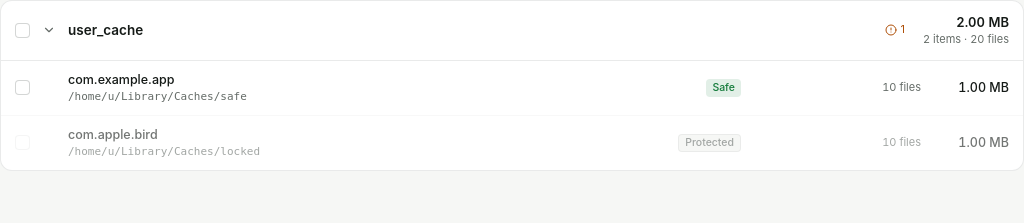
it: ProviderGroup › shows why a location was skipped instead of hiding it
Click the button titled "Some locations could not be read".
click(895, 30)  # box [878,20,911,40]
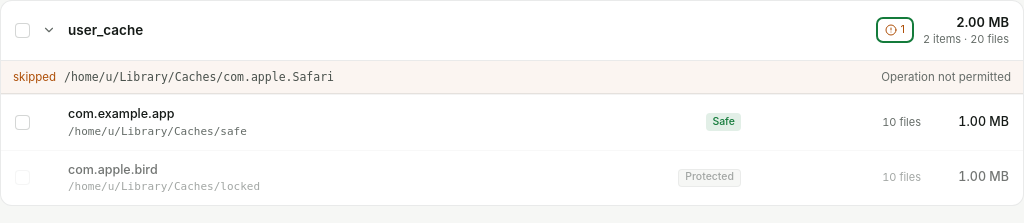
Now the text "Operation not permitted" is shown, box [881,69,1011,86]
